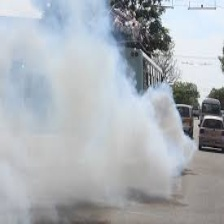smoke: (10, 49, 199, 202)
